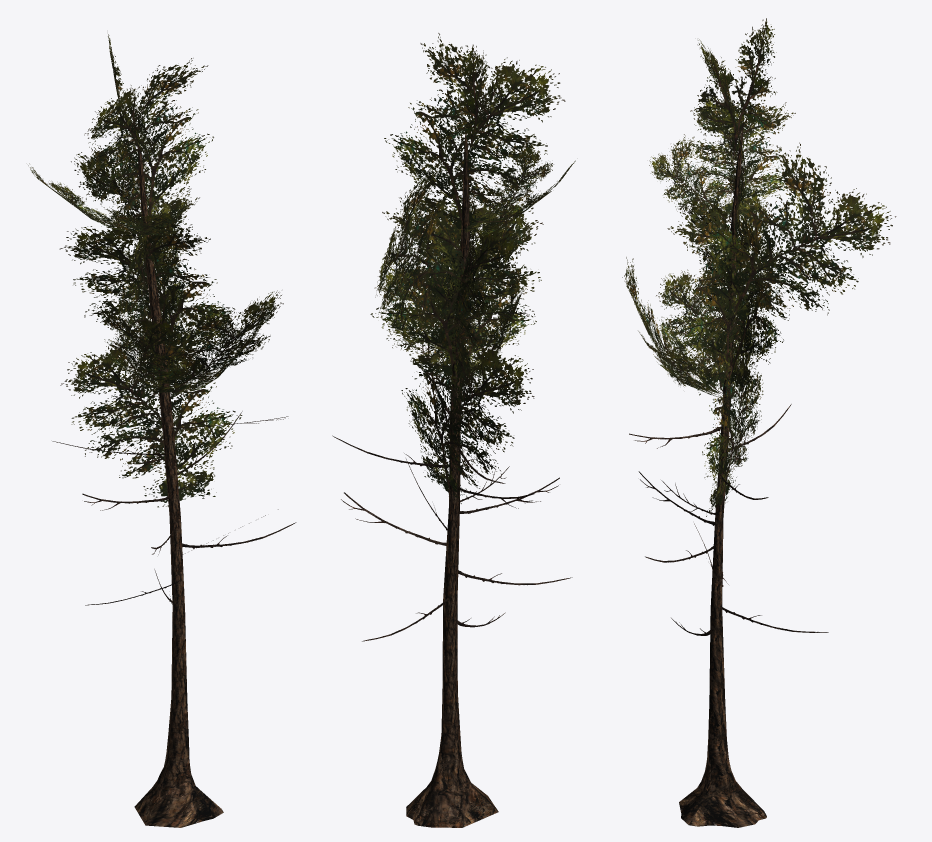
Rendered from tree01.obj.
3 renders of one model, left to right at view 1: azimuth 30°, elevation 25°; view 2: azimuth 150°, elevation 25°; view 3: azimuth 270°, elevation 25°, orthographic. The views are drawn at different scales.
Visible parts, largest first — view 1: Object1, Object0; view 2: Object1, Object0; view 3: Object1, Object0.
Boxes of the visible parts, box(x1,y1,x2,y2) form: Object1: box(28, 34, 296, 656); Object0: box(134, 134, 223, 827); Object1: box(332, 33, 575, 641); Object0: box(406, 133, 498, 827); Object1: box(622, 18, 896, 635); Object0: box(679, 118, 766, 827).
Size of the model in its own units: 0.8565 by 2.67 by 0.9318.
